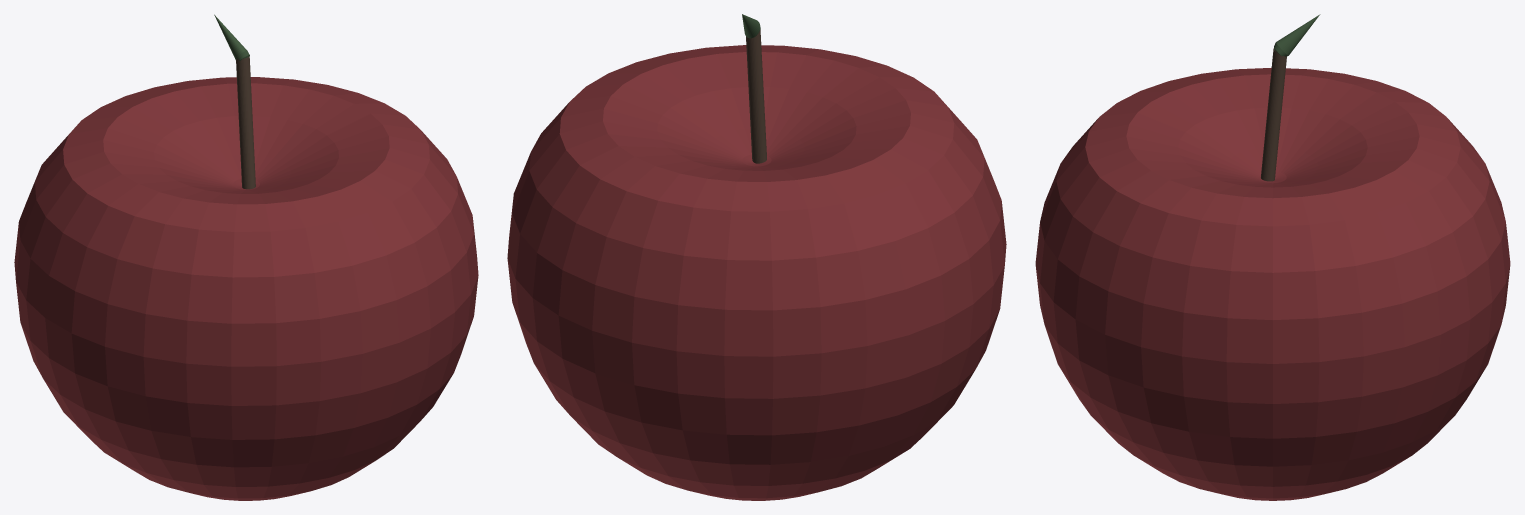
Rendered from Apple1.fbx.
3 views of the same model, side by side, from view 1: azimuth 30°, elevation 25°; view 2: azimuth 150°, elevation 25°; view 3: azimuth 270°, elevation 25° (orthographic). The views are drawn at different scales.
Parts seen in each view (by area): view 1: Sphere, Cylinder; view 2: Sphere, Cylinder; view 3: Sphere, Cylinder, Cone.
Part boxes in pixels (bbox=[...]): Sphere: bbox=[14, 77, 478, 500]; Cylinder: bbox=[236, 56, 255, 189]; Sphere: bbox=[507, 45, 1006, 500]; Cylinder: bbox=[746, 30, 766, 163]; Sphere: bbox=[1035, 67, 1510, 500]; Cylinder: bbox=[1261, 48, 1286, 181]; Cone: bbox=[1274, 14, 1320, 56].
Bounding box in the file's own units: 200 × 214 × 200.
